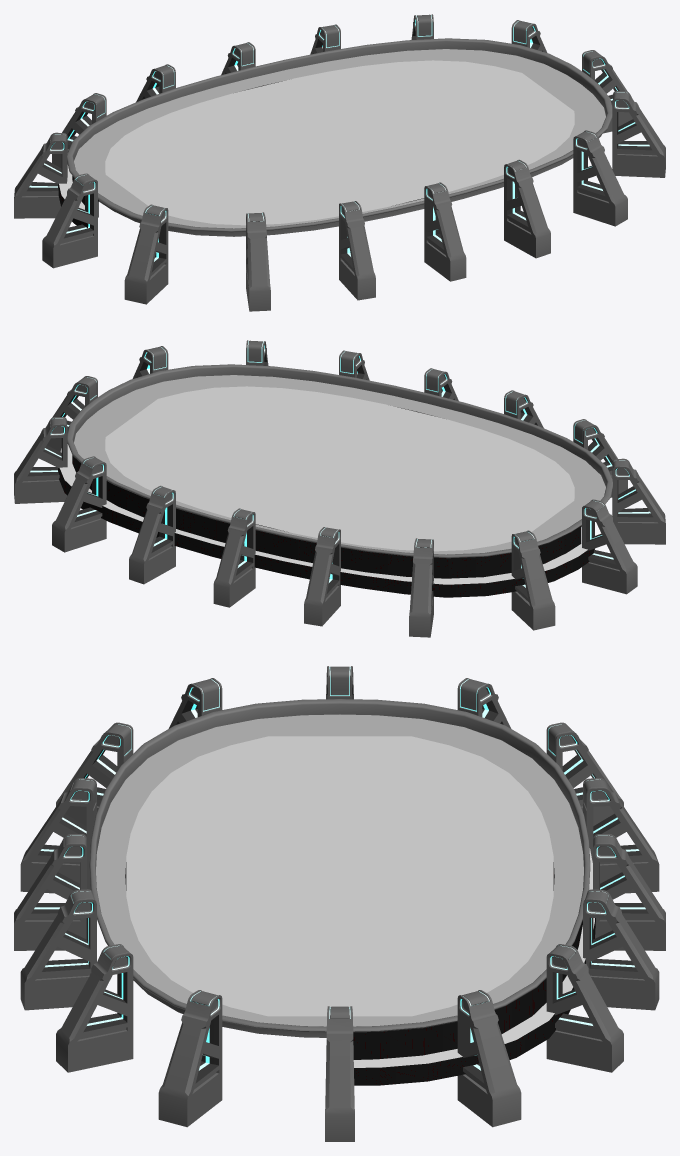
The model's file is mesh_RTA_BG_BuildingStructure.fbx.
3 renders of one model, top to bottom at view 1: azimuth 30°, elevation 25°; view 2: azimuth 150°, elevation 25°; view 3: azimuth 270°, elevation 25°, orthographic. The views are drawn at different scales.
Visible parts, largest first — view 1: mesh_floorStructure.001, Cube.004; view 2: mesh_floorStructure.001, Cube.004; view 3: mesh_floorStructure.001, Cube.004.
Boxes of the visible parts, left/top/right/bottom form: mesh_floorStructure.001: left=58, top=38, right=612, bottom=236; Cube.004: left=14, top=14, right=665, bottom=311; mesh_floorStructure.001: left=58, top=364, right=612, bottom=597; Cube.004: left=14, top=340, right=665, bottom=637; mesh_floorStructure.001: left=89, top=699, right=595, bottom=1085; Cube.004: left=14, top=666, right=665, bottom=1141.
Size of the model in its own units: 78.56 by 9.93 by 55.13.
